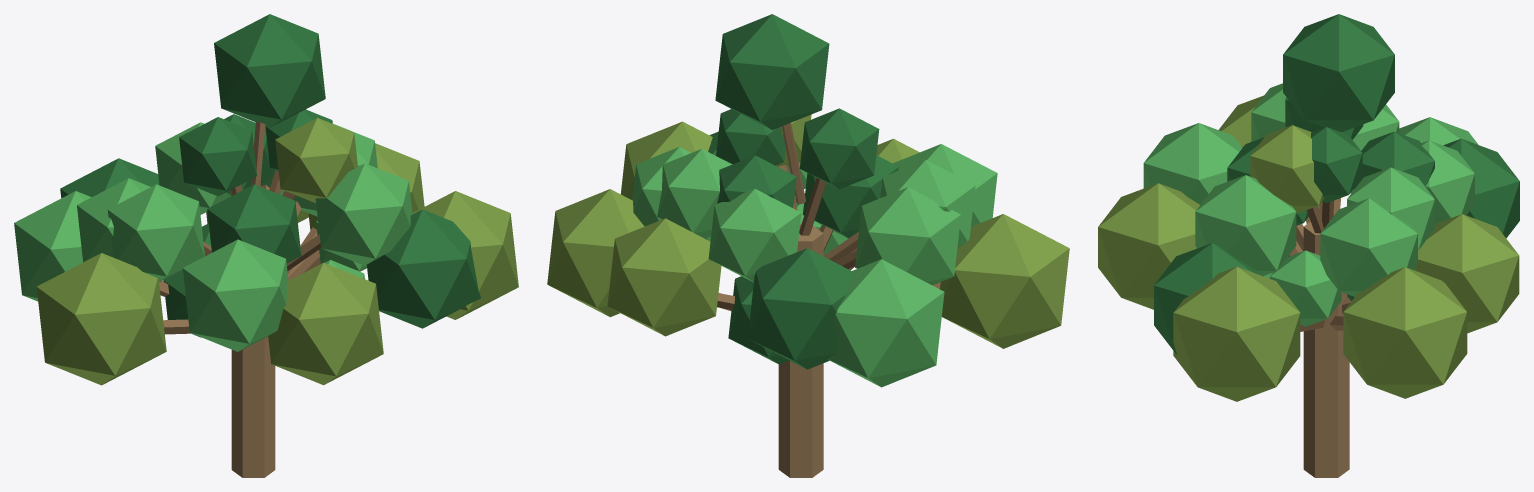
The model's file is Tree_16.glb.
3 views of the same model, side by side, from view 1: azimuth 30°, elevation 25°; view 2: azimuth 150°, elevation 25°; view 3: azimuth 270°, elevation 25° (orthographic). The views are drawn at different scales.
Visible parts, largest first — view 1: T16_Sphere_07, T16_Sphere_08, T16_Sphere_03, T16_Sphere_12, T16_Sphere_13, T16_Sphere_18, T16_Sphere_20, T16_Trunk, T16_Sphere_09, T16_Sphere_23, T16_Sphere_17, T16_Sphere_11 (+10 smaller); view 2: T16_Sphere_07, T16_Sphere_11, T16_Sphere_10, T16_Sphere_03, T16_Sphere_06, T16_Sphere_16, T16_Sphere_05, T16_Sphere_15, T16_Trunk, T16_Sphere_22, T16_Sphere_19, T16_Sphere_20 (+10 smaller); view 3: T16_Sphere_09, T16_Sphere_05, T16_Sphere_03, T16_Sphere_08, T16_Sphere_10, T16_Trunk, T16_Sphere_18, T16_Sphere_14, T16_Sphere_12, T16_Sphere_23, T16_Sphere_13, T16_Sphere_06 (+11 smaller).
Boxes of the visible parts, x1,y1,x2,y2 form: T16_Sphere_07: (36,253,166,385); T16_Sphere_08: (268,262,383,385); T16_Sphere_03: (214,14,325,127); T16_Sphere_12: (182,239,288,351); T16_Sphere_13: (366,209,480,328); T16_Sphere_18: (315,163,412,265); T16_Sphere_20: (107,184,204,282); T16_Trunk: (231,336,275,477); T16_Sphere_09: (412,191,518,319); T16_Sphere_23: (275,118,357,203); T16_Sphere_17: (207,184,301,263); T16_Sphere_11: (14,191,91,301); T16_Sphere_07: (940,214,1069,348); T16_Sphere_11: (828,259,944,387); T16_Sphere_10: (607,218,721,336); T16_Sphere_03: (715,14,829,129); T16_Sphere_06: (747,248,853,369); T16_Sphere_16: (855,187,960,285); T16_Sphere_05: (547,189,644,317); T16_Sphere_15: (708,188,801,282); T16_Trunk: (778,225,823,477); T16_Sphere_22: (799,108,879,189); T16_Sphere_19: (657,149,731,238); T16_Sphere_20: (880,160,975,246); T16_Sphere_09: (1173,266,1300,401); T16_Sphere_05: (1343,267,1467,398); T16_Sphere_03: (1283,14,1394,132); T16_Sphere_08: (1098,183,1199,309); T16_Sphere_10: (1415,214,1519,333); T16_Trunk: (1303,221,1349,477); T16_Sphere_18: (1195,175,1296,275); T16_Sphere_14: (1320,198,1417,296); T16_Sphere_12: (1143,123,1242,204); T16_Sphere_23: (1250,125,1324,213); T16_Sphere_13: (1154,243,1263,354); T16_Sphere_06: (1443,138,1519,238).
Bounding box in the file's own units: 2.82 × 2.69 × 2.2.
